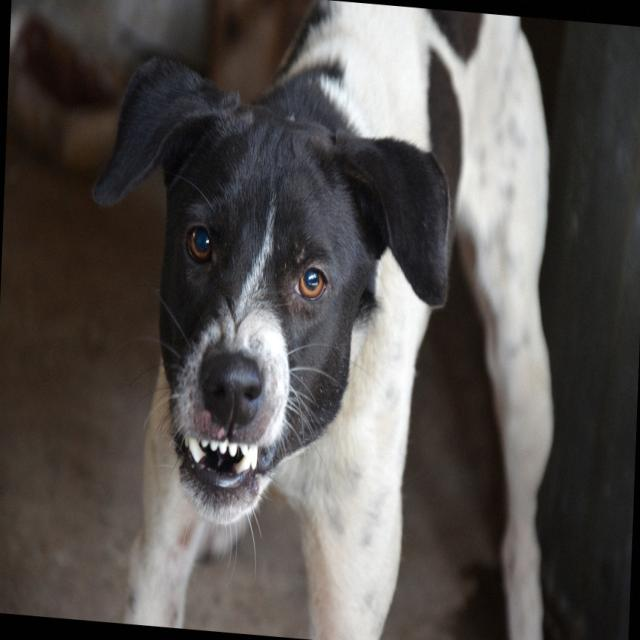angry: (97, 34, 462, 640)
